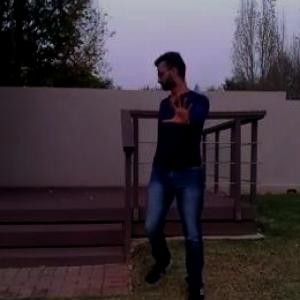follow_hand: (160, 90, 195, 129)
